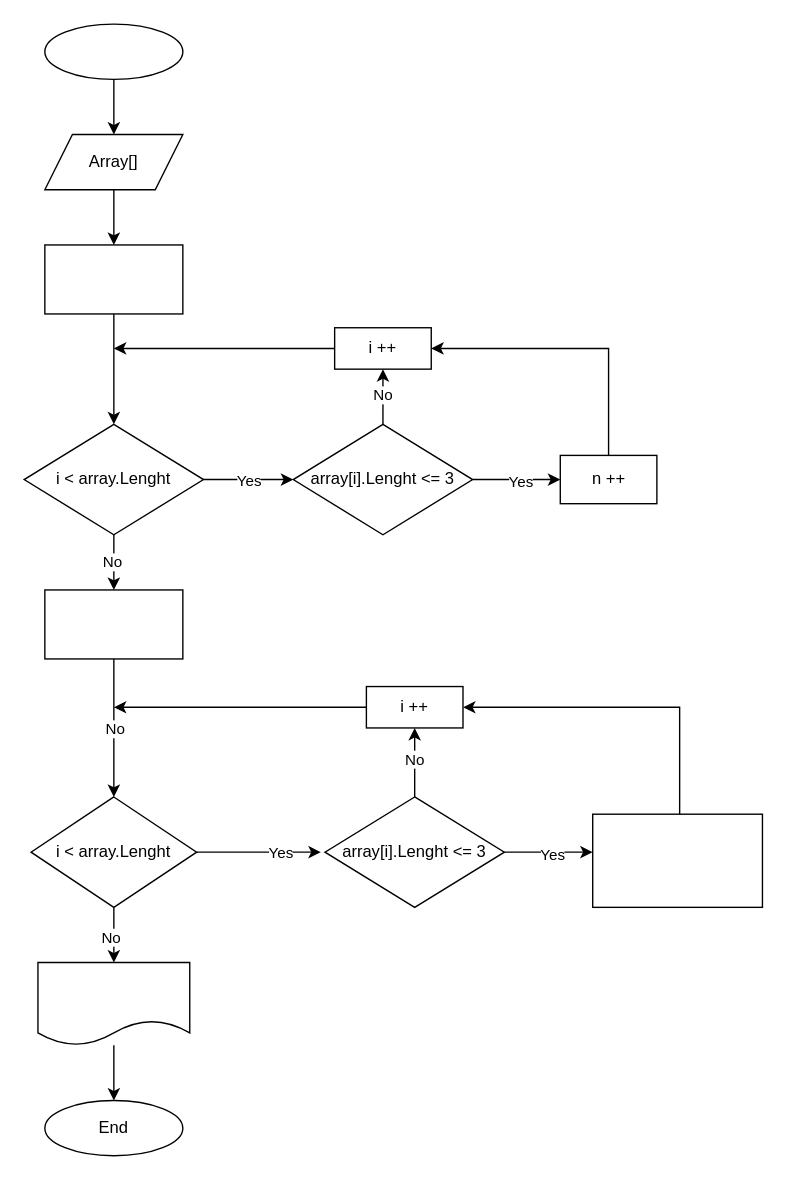
Some shapes in this 787 by 1180 pixel diagram are drawn without their labels. Each missing label, with the box of its shape:
i = 0 n = 0 k = o: (43, 244, 183, 314)
new array[]: (37, 961, 190, 1045)
new array[k] = array[i] k ++: (591, 813, 762, 907)
new array[n]: (43, 589, 183, 659)
Start: (43, 23, 183, 79)
